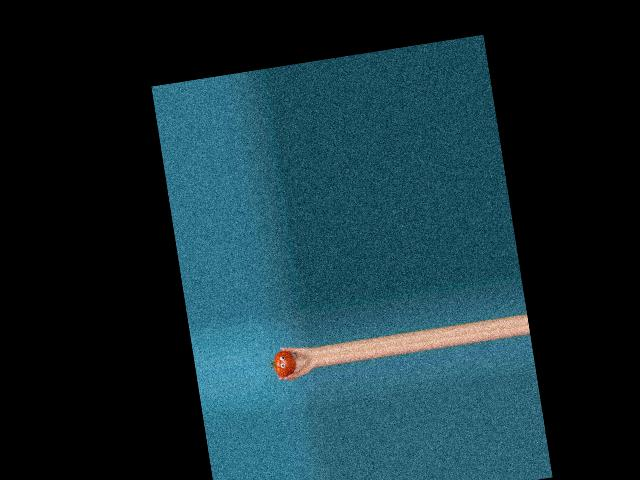tomato: (271, 348, 298, 378)
